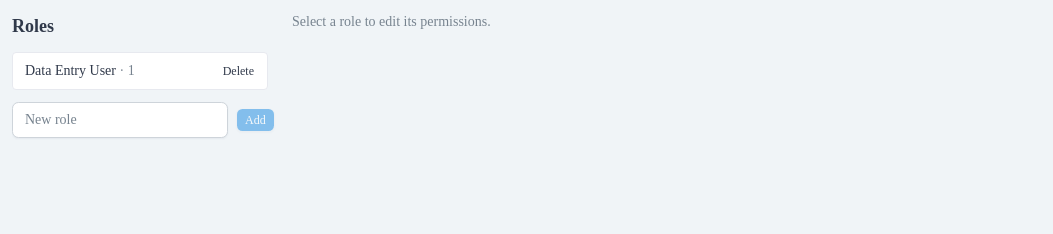
Test: RolesPage › RolePermissionMatrix_RendersGridAndReflectsGrants
Click the button "Data Entry User · 1". click: point(113, 71)
box: x1=13 y1=53 x2=214 y2=89
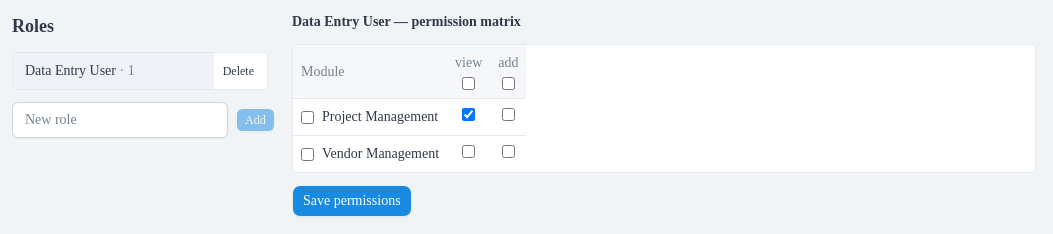
Check: the checkbox named "projects.view" is checked, box x1=462 y1=108 x2=475 y2=121
Check: the checkbox named "projects.add" is not checked, box x1=502 y1=108 x2=515 y2=121
Check: the checkbox named "vendors.view" is not checked, box x1=462 y1=145 x2=475 y2=158
Row toggle grants every action for the module.
Click the checkbox named "All Vendor Management". click: point(308, 154)
box: x1=301 y1=148 x2=314 y2=160
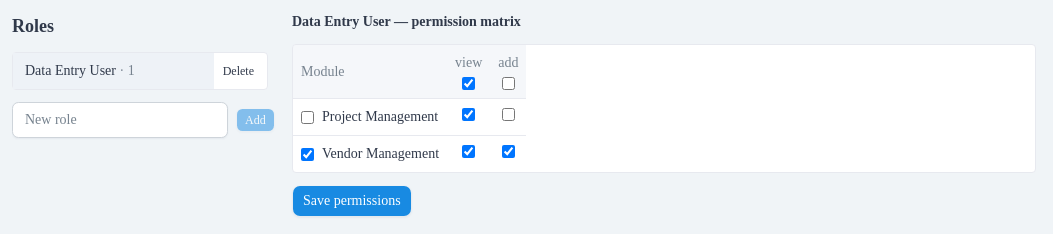
Check: the checkbox named "vendors.view" is checked, box x1=462 y1=145 x2=475 y2=158
Check: the checkbox named "vendors.add" is checked, box x1=502 y1=145 x2=515 y2=158
